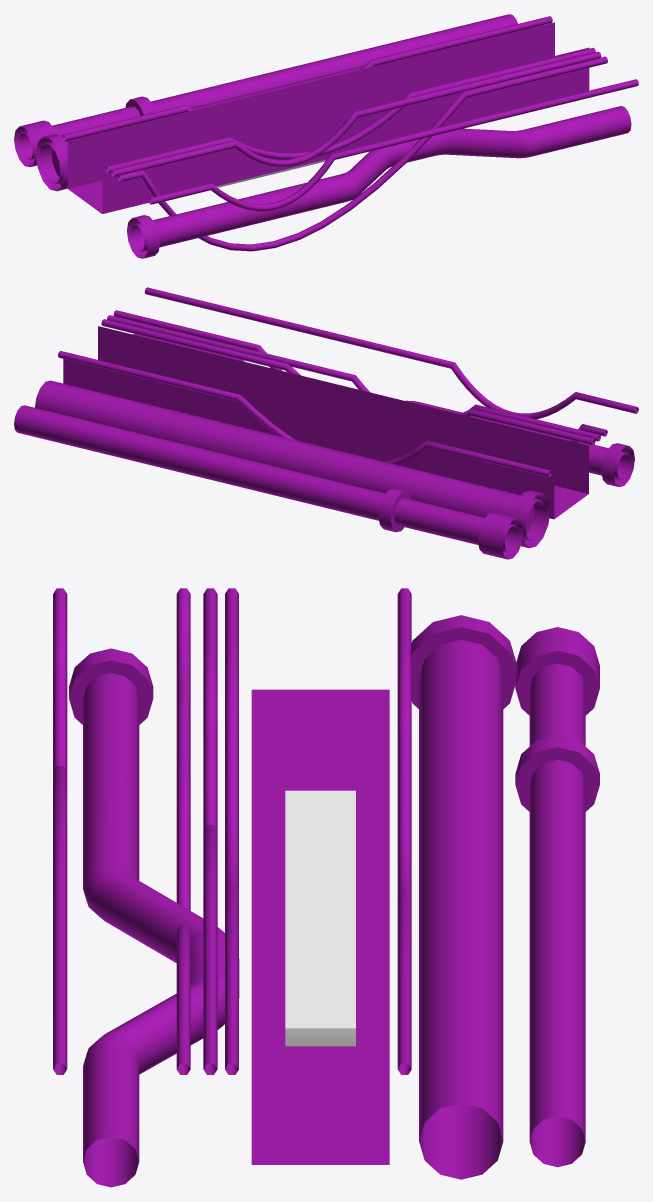
File: SM_CeilingPipes_Light_02.fbx
The picture shows the model from 3 angles, top to bottom: view 1: azimuth 30°, elevation 25°; view 2: azimuth 150°, elevation 25°; view 3: azimuth 270°, elevation 25°; orthographic projection. The views are drawn at different scales.
Visible parts, largest first — view 1: SM_CeilingPipes_Light_0S; view 2: SM_CeilingPipes_Light_0S; view 3: SM_CeilingPipes_Light_0S.
Part boxes in pixels (x1=…): SM_CeilingPipes_Light_0S: x1=14, y1=14, x2=638, y2=258; SM_CeilingPipes_Light_0S: x1=14, y1=287, x2=638, y2=559; SM_CeilingPipes_Light_0S: x1=53, y1=588, x2=599, y2=1187.
Bounding box in the file's own units: 401 × 85.69 × 194.
